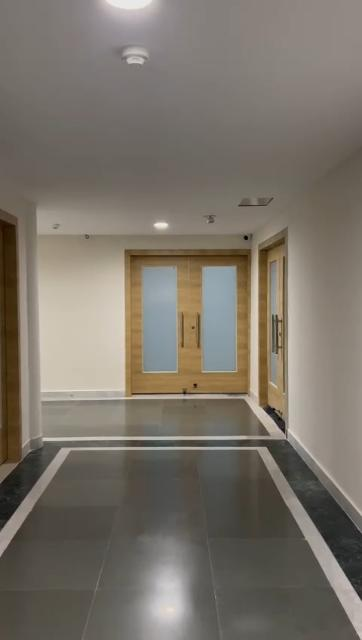door: (124, 252, 248, 392), (259, 243, 287, 417), (0, 212, 18, 464)
floor: (0, 404, 362, 640)
wall: (294, 153, 359, 503), (38, 240, 122, 388), (26, 198, 38, 438)
